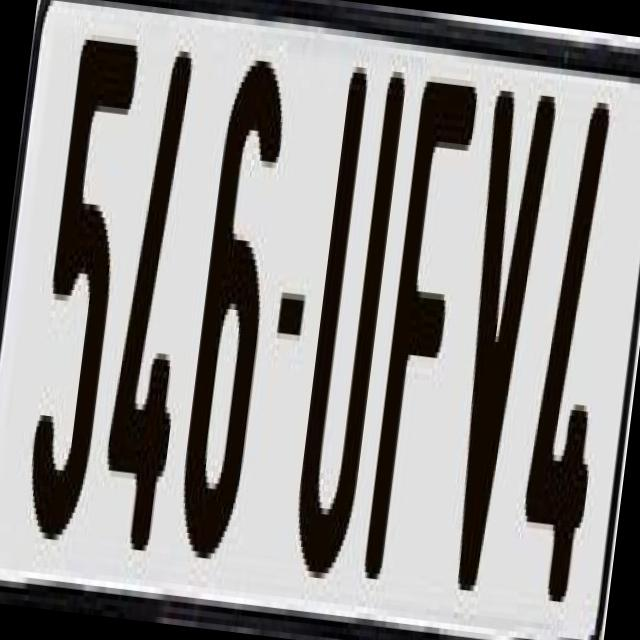4: (510, 99, 638, 609), (94, 41, 220, 546)
5: (20, 33, 146, 543)
6: (166, 45, 296, 585)
F: (356, 63, 478, 602)
U: (288, 54, 416, 588)
V: (434, 78, 568, 612)
